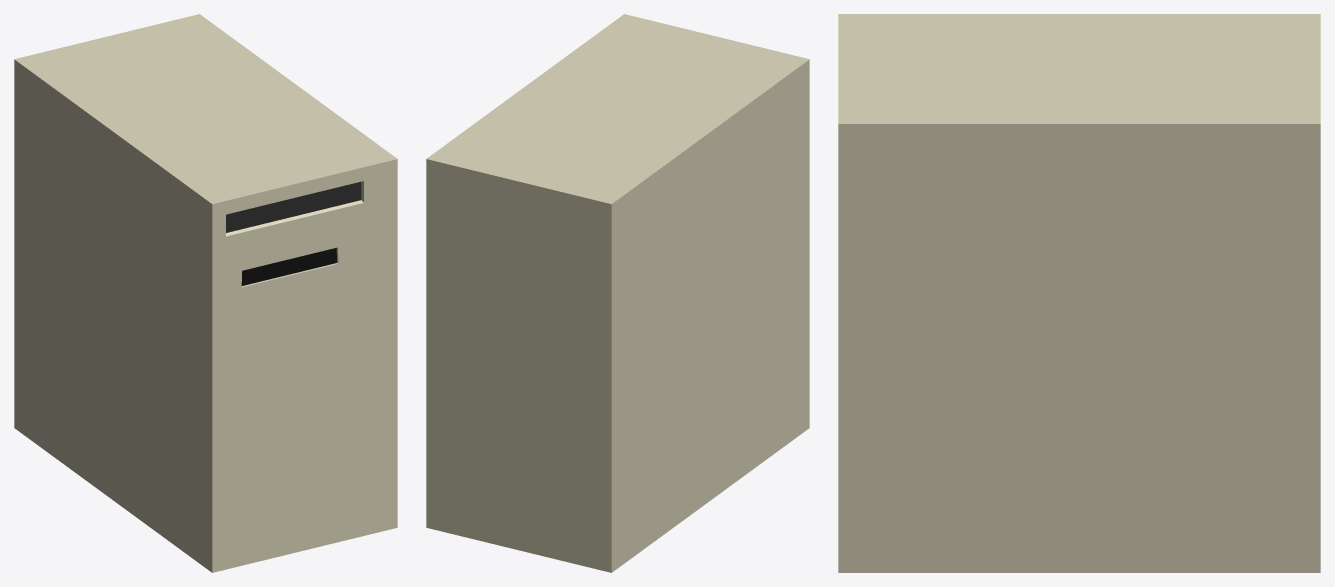
Rendered from Computer_3A.fbx.
The picture shows the model from 3 angles, left to right: view 1: azimuth 30°, elevation 25°; view 2: azimuth 150°, elevation 25°; view 3: azimuth 270°, elevation 25°; orthographic projection. The views are drawn at different scales.
Parts seen in each view (by area): view 1: polySurface2113; view 2: polySurface2113; view 3: polySurface2113.
Part boxes in pixels (left/top/right/bottom): polySurface2113: left=14, top=14, right=397, bottom=572; polySurface2113: left=426, top=14, right=809, bottom=572; polySurface2113: left=838, top=14, right=1320, bottom=572.
Bounding box in the file's own units: 0.2 × 0.38 × 0.37.
Materials: 1 (1 with a texture image).
